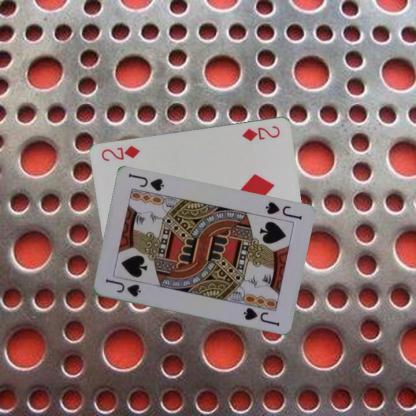2d: (240, 123, 282, 142)
Js: (262, 200, 303, 222), (102, 276, 142, 298)
